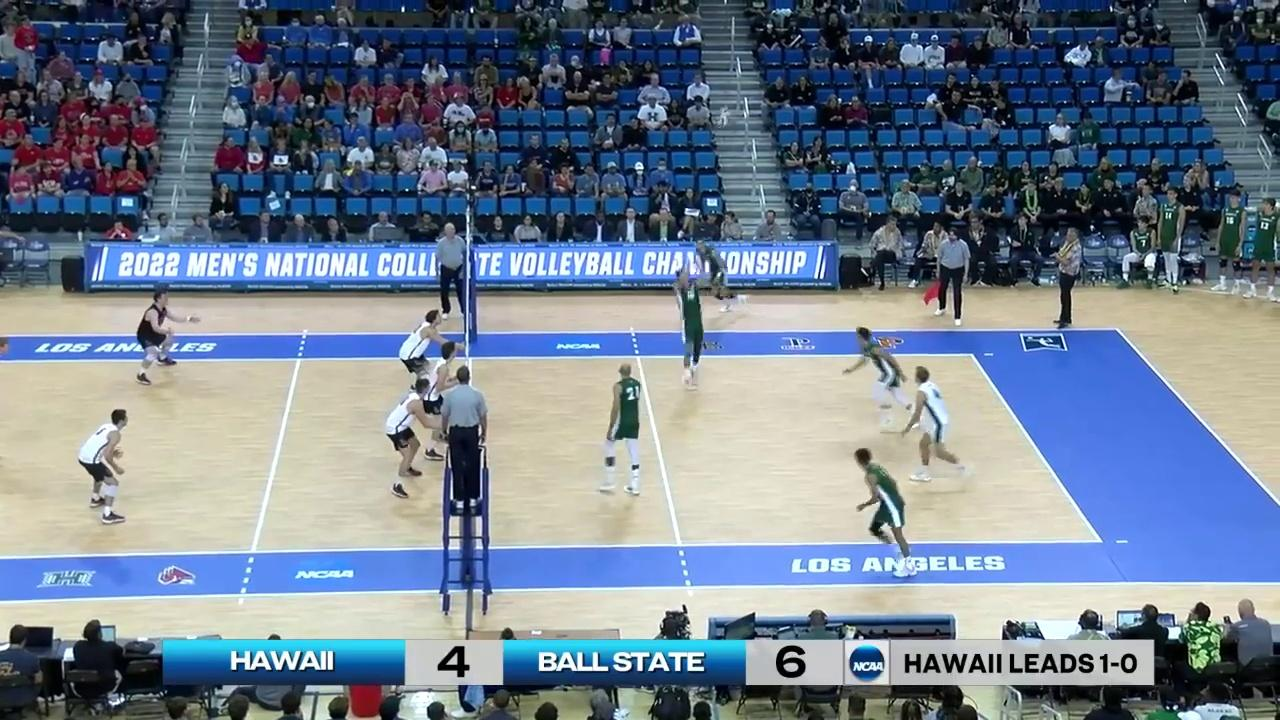player: (850, 449, 918, 576), (907, 367, 973, 483), (596, 364, 647, 493), (845, 328, 908, 431), (79, 410, 131, 522), (386, 378, 431, 498), (400, 311, 455, 408), (691, 237, 750, 313), (136, 290, 181, 387), (673, 267, 706, 392), (425, 342, 458, 465)
refree: (442, 367, 491, 508), (932, 228, 969, 324), (436, 224, 472, 319)
